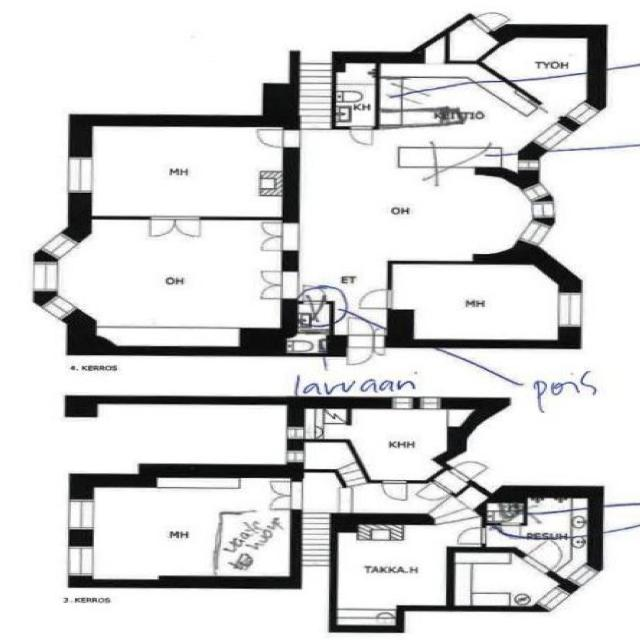door: (522, 539, 573, 574), (448, 456, 488, 482), (470, 7, 510, 33), (415, 480, 452, 506), (254, 130, 298, 148), (348, 336, 373, 366), (348, 318, 373, 348), (361, 290, 392, 309), (261, 285, 299, 299), (261, 223, 299, 237), (261, 237, 299, 251), (174, 216, 200, 236), (261, 272, 299, 285), (382, 480, 406, 500), (150, 216, 174, 236), (457, 528, 486, 544), (270, 496, 302, 510), (270, 482, 302, 496), (350, 126, 372, 144), (374, 335, 386, 356), (374, 327, 386, 348)
